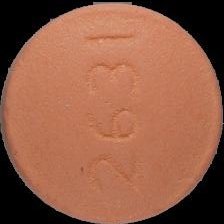61786-689: (0, 0, 224, 224)
